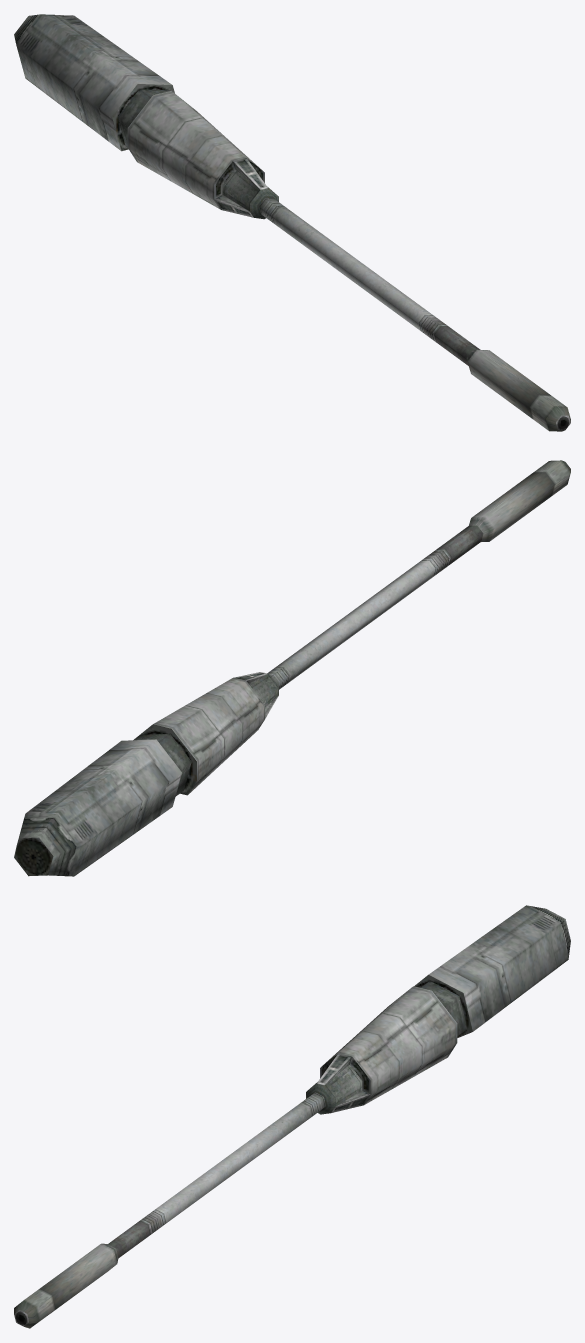
Rendered from xwing_weapon2_pos_s05_l1.fbx.
The picture shows the model from 3 angles, top to bottom: view 1: azimuth 30°, elevation 25°; view 2: azimuth 150°, elevation 25°; view 3: azimuth 330°, elevation 25°; orthographic projection.
Parts seen in each view (by area): view 1: mesh_node; view 2: mesh_node; view 3: mesh_node.
Boxes of the visible parts, x1,y1,x2,y2 form: mesh_node: (14,14,570,431); mesh_node: (14,460,570,876); mesh_node: (14,905,570,1328).
Bounding box in the file's own units: 0.316 × 0.2737 × 4.14.
1 material, 1 textured.
